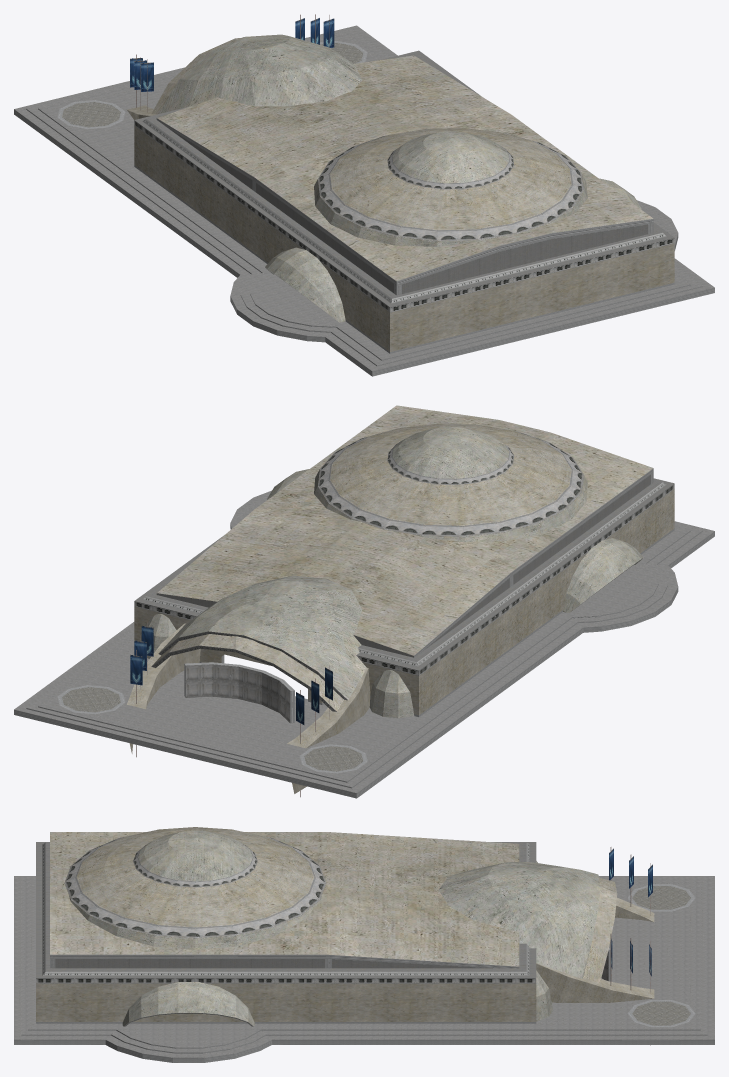
Rendered from mun_all_guild_theater_s01_r0_mesh_l1.fbx.
3 renders of one model, top to bottom at view 1: azimuth 30°, elevation 25°; view 2: azimuth 150°, elevation 25°; view 3: azimuth 270°, elevation 25°, orthographic. The views are drawn at different scales.
Visible parts, largest first — view 1: mesh_node; view 2: mesh_node; view 3: mesh_node.
Part boxes in pixels (box(x1,y1,x2,y2)): mesh_node: box(14, 14, 714, 376); mesh_node: box(14, 405, 714, 798); mesh_node: box(14, 827, 714, 1062).
Size of the model in its own units: 81.75 by 32.27 by 121.
